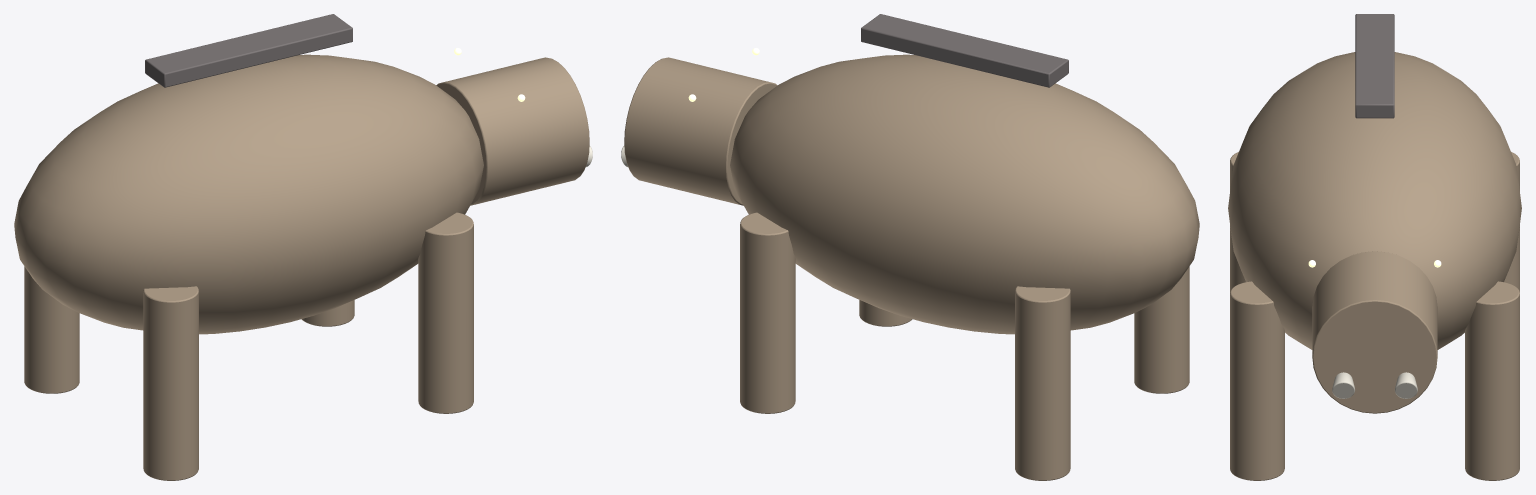
Rendered from SM_ANM_AshbackBoar.fbx.
The picture shows the model from 3 angles, left to right: view 1: azimuth 30°, elevation 25°; view 2: azimuth 150°, elevation 25°; view 3: azimuth 270°, elevation 25°; orthographic projection.
Visible parts, largest first — view 1: SM_ANM_AshbackBoar; view 2: SM_ANM_AshbackBoar; view 3: SM_ANM_AshbackBoar.
Boxes of the visible parts, bbox=[...] form: SM_ANM_AshbackBoar: bbox=[14, 14, 592, 480]; SM_ANM_AshbackBoar: bbox=[621, 14, 1199, 480]; SM_ANM_AshbackBoar: bbox=[1228, 14, 1521, 480].
Size of what is drawn, in the model's own units: 1.59 by 0.97 by 0.75.
